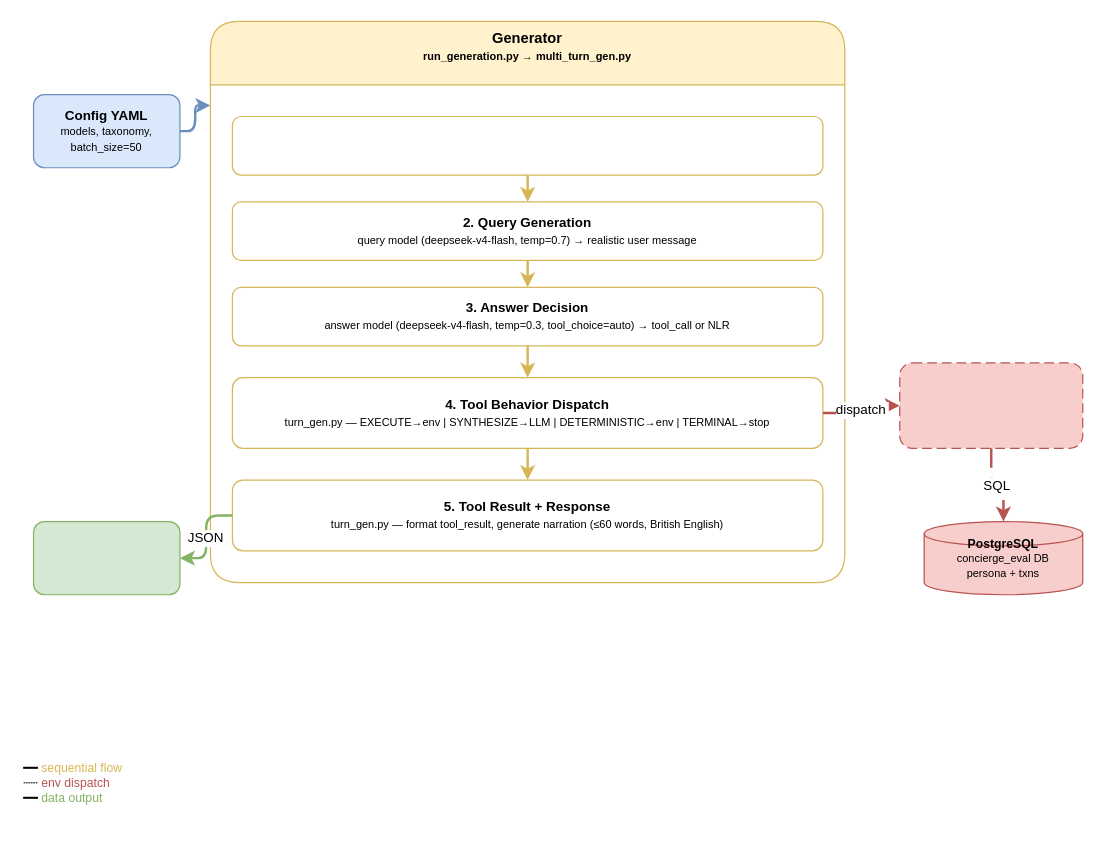
The diagram is 1104 pixels wide and 842 high, and some of its shapes have lost their labels. The centre of each missing label's shape, as x and y in pixels:
1. Combo Grid combos.py — dialect × block_type × topic × emotion × typing_style: the point at 527,145
Environment convai_spending_insights ToolSpec + execute_tool: the point at 991,405
output/raw/ multi_turn.json (block pool): the point at 106,557
